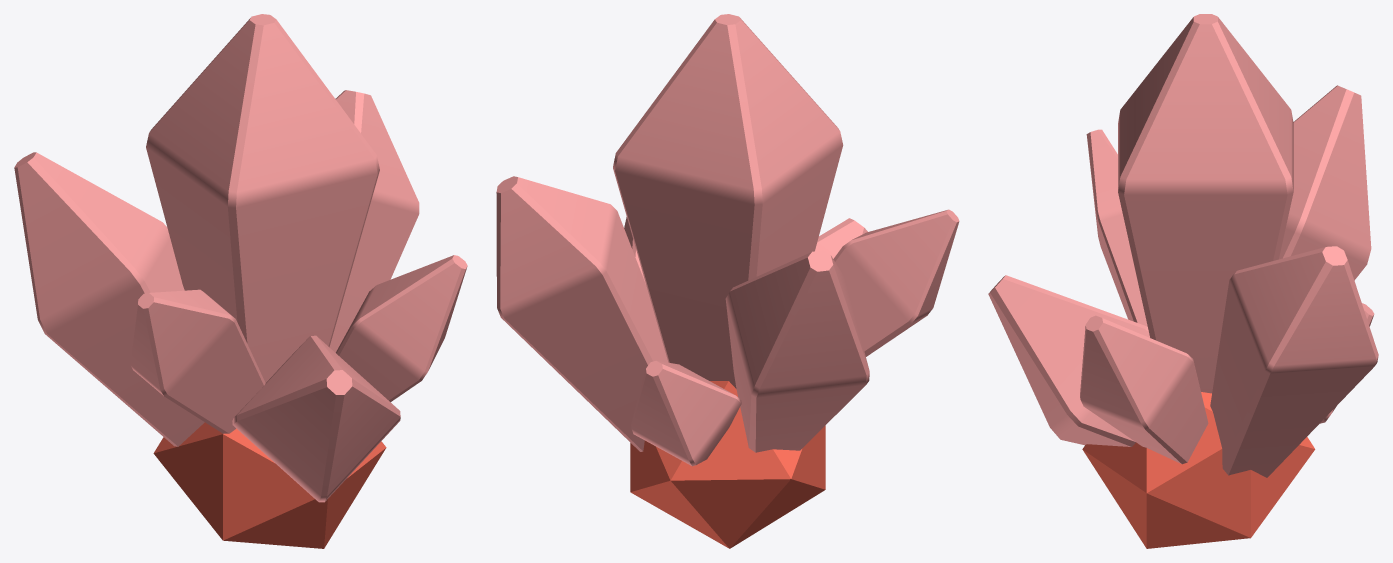
Rendered from Crystal_with_materials.fbx.
3 views of the same model, side by side, from view 1: azimuth 30°, elevation 25°; view 2: azimuth 150°, elevation 25°; view 3: azimuth 270°, elevation 25° (orthographic).
Parts seen in each view (by area): view 1: pCube6, pCube8, pCube9, pPlatonic1, pCube10, pCube11, pCube7; view 2: pCube6, pCube7, pCube8, pPlatonic1, pCube10, pCube12, pCube9; view 3: pCube6, pCube7, pPlatonic1, pCube11, pCube8, pCube9, pCube10.
Boxes of the visible parts, left/top/right/bottom form: pCube6: left=146, top=14, right=379, bottom=382; pCube8: left=14, top=152, right=204, bottom=446; pCube9: left=232, top=335, right=400, bottom=502; pPlatonic1: left=153, top=422, right=386, bottom=548; pCube10: left=130, top=289, right=265, bottom=433; pCube11: left=336, top=255, right=467, bottom=402; pCube7: left=329, top=90, right=419, bottom=352; pCube6: left=613, top=14, right=843, bottom=389; pCube7: left=496, top=176, right=668, bottom=451; pCube8: left=725, top=250, right=869, bottom=452; pPlatonic1: left=630, top=381, right=825, bottom=548; pCube10: left=833, top=209, right=959, bottom=356; pCube12: left=631, top=360, right=741, bottom=466; pCube9: left=815, top=218, right=867, bottom=258; pCube6: left=1118, top=14, right=1293, bottom=393; pCube7: left=1210, top=246, right=1378, bottom=477; pPlatonic1: left=1082, top=392, right=1315, bottom=548; pCube11: left=1080, top=315, right=1208, bottom=464; pCube8: left=1279, top=85, right=1371, bottom=280; pCube9: left=988, top=275, right=1149, bottom=446; pCube10: left=1086, top=129, right=1147, bottom=326.
Bounding box in the file's own units: 8.52 × 11.25 × 7.74.
